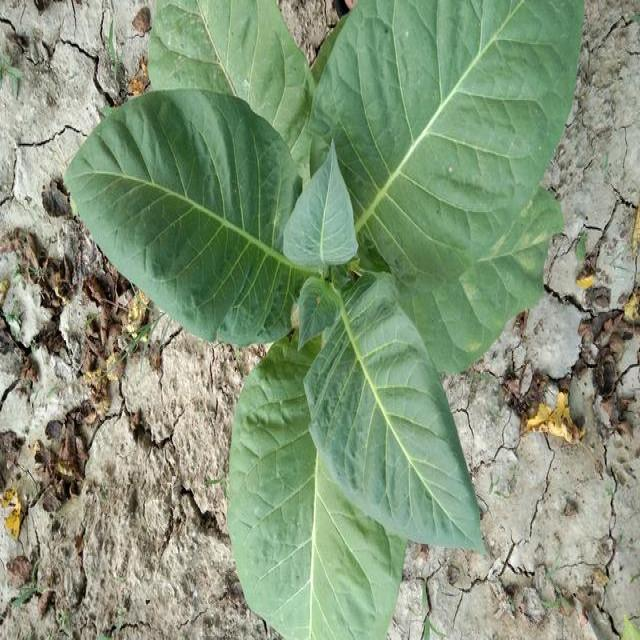crop: (76, 0, 582, 636)
